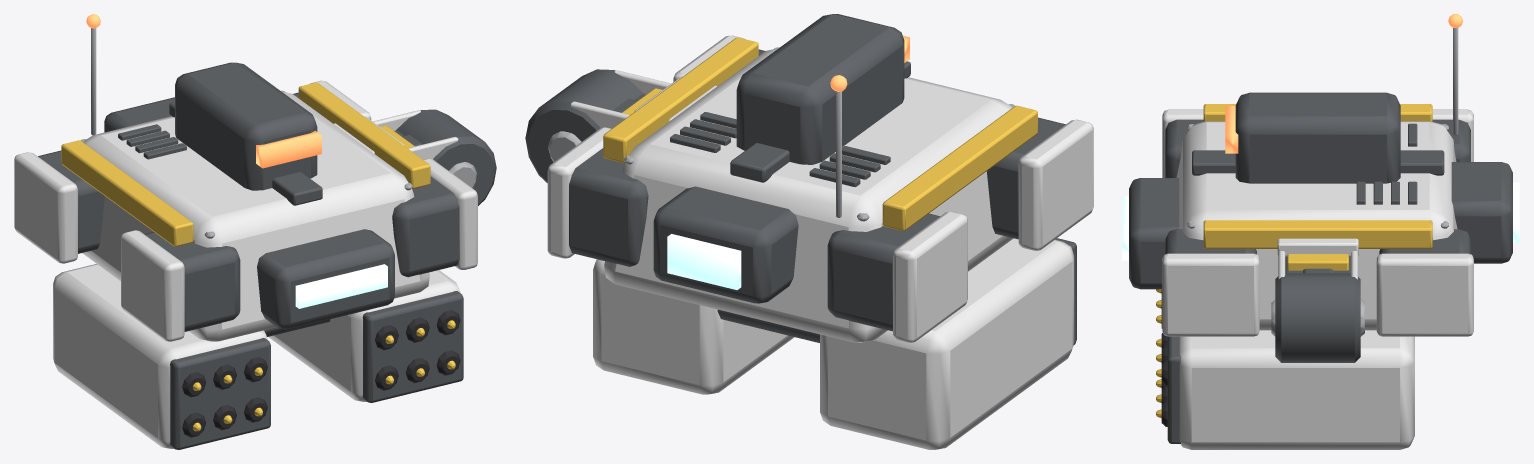
The model's file is missile.glb.
3 views of the same model, side by side, from view 1: azimuth 30°, elevation 25°; view 2: azimuth 150°, elevation 25°; view 3: azimuth 270°, elevation 25° (orthographic). The views are drawn at different scales.
Parts seen in each view (by area): view 1: Hull, Barrel, Turret, LegUpper; view 2: Hull, Barrel, Turret, LegUpper; view 3: Hull, Barrel, Turret, LegUpper, LegLower.
Part boxes in pixels (bbox=[...]): Hull: bbox=[14, 14, 477, 341]; Barrel: bbox=[53, 264, 463, 449]; Turret: bbox=[175, 62, 321, 190]; LegUpper: bbox=[333, 109, 496, 205]; Hull: bbox=[547, 35, 1093, 342]; Barrel: bbox=[593, 238, 1076, 449]; Turret: bbox=[736, 14, 909, 164]; LegUpper: bbox=[525, 69, 717, 182]; Hull: bbox=[1122, 14, 1519, 336]; Barrel: bbox=[1156, 289, 1414, 449]; Turret: bbox=[1225, 92, 1400, 183]; LegUpper: bbox=[1271, 238, 1364, 362]; LegLower: bbox=[1287, 254, 1348, 273].
Bounding box in the file's own units: 0.787 × 0.6285 × 0.694.
